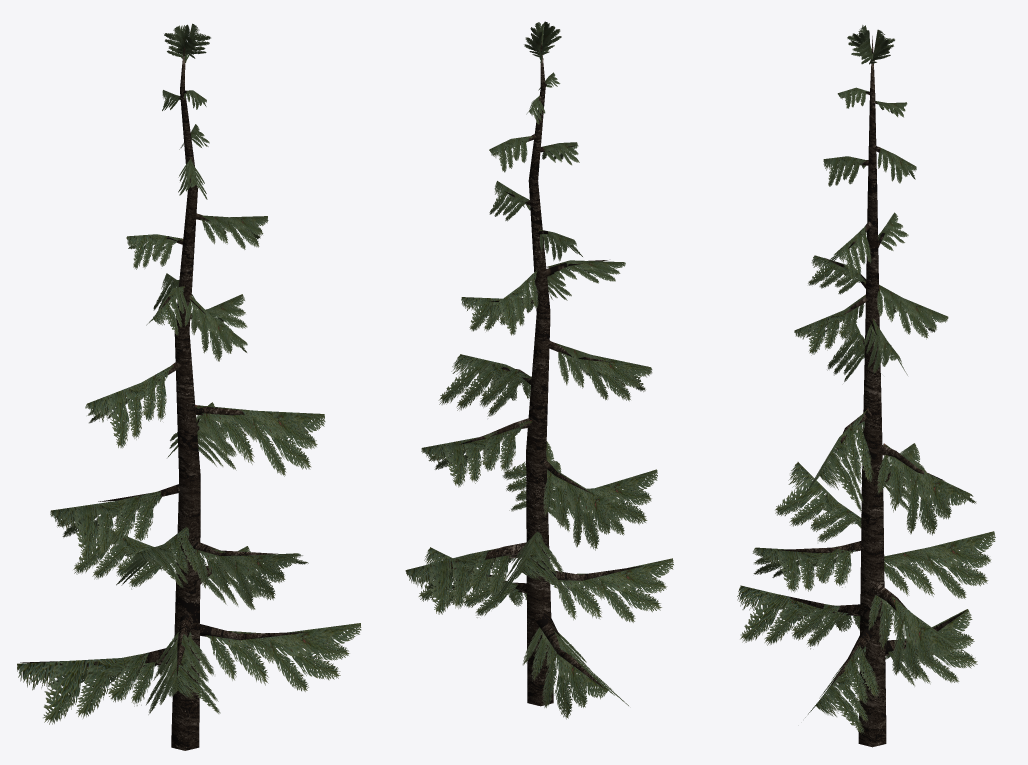
The model's file is tree_pine.fbx.
3 views of the same model, side by side, from view 1: azimuth 30°, elevation 25°; view 2: azimuth 150°, elevation 25°; view 3: azimuth 270°, elevation 25° (orthographic). The views are drawn at different scales.
Parts seen in each view (by area): view 1: tree; view 2: tree; view 3: tree.
Boxes of the visible parts, <box> form: tree: <box>17,23,361,750</box>; tree: <box>405,21,673,719</box>; tree: <box>737,25,995,747</box>.
Bounding box in the file's own units: 372 × 867 × 323.
Materials: 2 (2 with a texture image).
